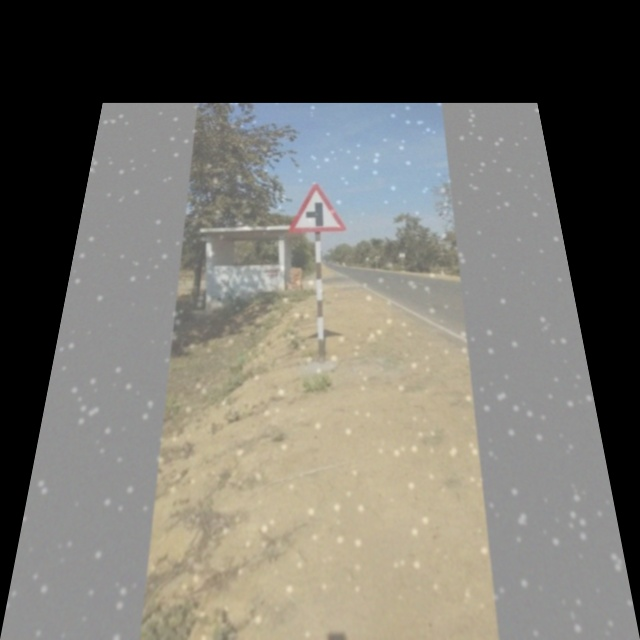Side_Road_Left: (287, 180, 347, 236)
